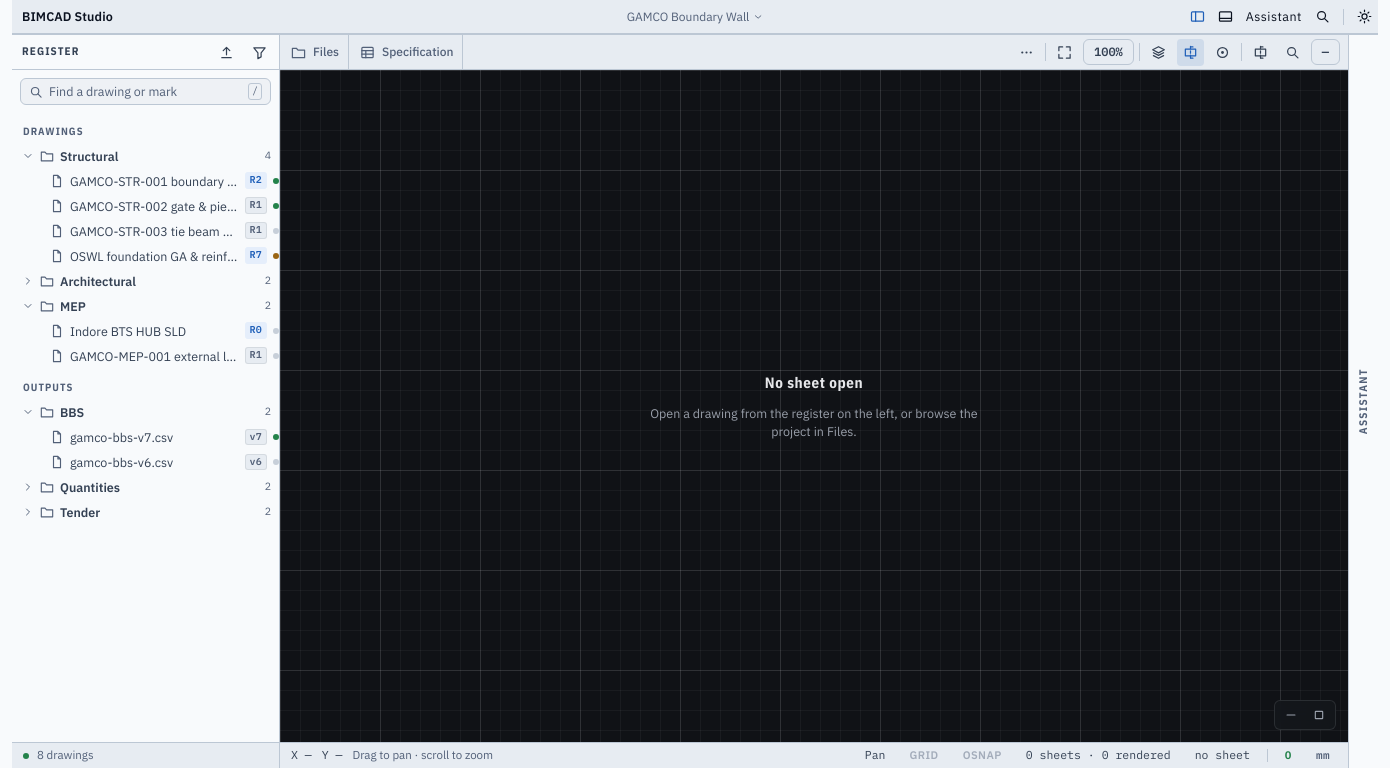
register tree › clicking a parsed drawing opens its sheet
This screenshot has width=1390, height=768.
Click the text "GAMCO-STR-001 boundary wall". click: (154, 181)
box: left=70, top=172, right=239, bottom=190
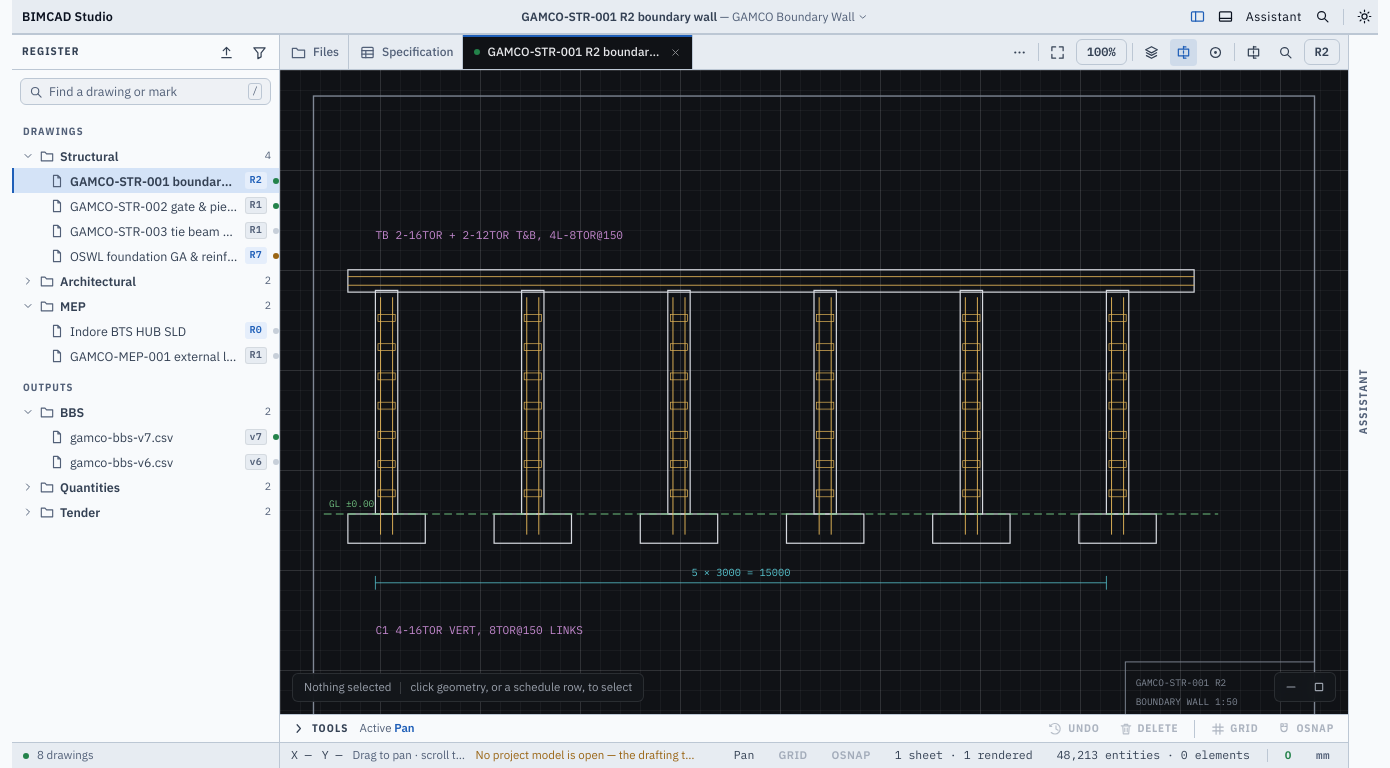
Check: the element with test id "tb-title" shows "boundary wall", box left=521, top=9, right=717, bottom=24
Check: the element with test id "sheet-host" is shown
